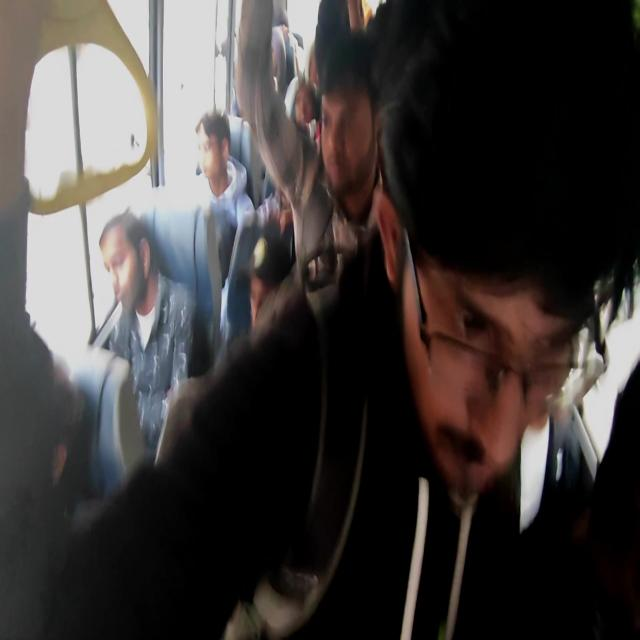person: (400, 233, 571, 508), (0, 374, 94, 554), (318, 25, 381, 207), (98, 208, 148, 315), (247, 219, 295, 329), (195, 108, 233, 185), (295, 85, 316, 139), (308, 39, 321, 93), (271, 43, 280, 86), (278, 9, 293, 34)
